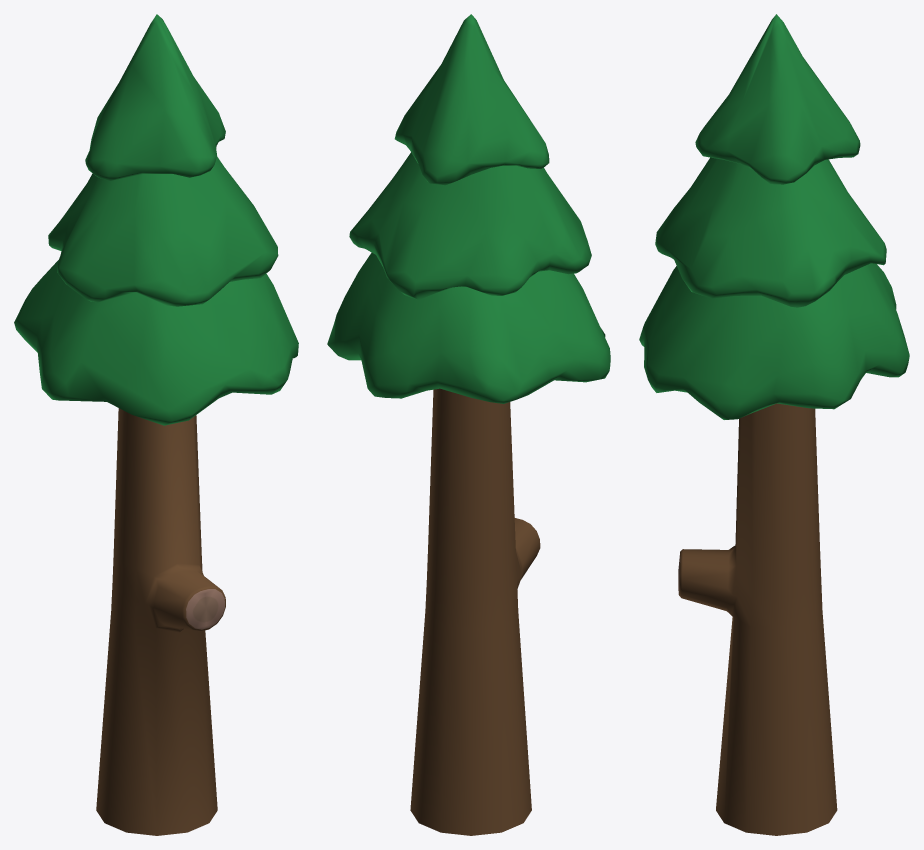
The model's file is tall-tree.fbx.
3 renders of one model, left to right at view 1: azimuth 30°, elevation 25°; view 2: azimuth 150°, elevation 25°; view 3: azimuth 270°, elevation 25°, orthographic.
Visible parts, largest first — view 1: t-log, t-leaves-3, t-leaves-2, t-leaves-1; view 2: t-log, t-leaves-3, t-leaves-2, t-leaves-1; view 3: t-log, t-leaves-3, t-leaves-2, t-leaves-1.
Boxes of the visible parts, left/top/right/bottom form: t-log: left=96, top=408, right=225, bottom=835; t-leaves-3: left=14, top=260, right=298, bottom=425; t-leaves-2: left=48, top=156, right=278, bottom=306; t-leaves-1: left=85, top=14, right=225, bottom=180; t-log: left=410, top=388, right=540, bottom=835; t-leaves-3: left=327, top=252, right=610, bottom=403; t-leaves-2: left=349, top=152, right=591, bottom=299; t-leaves-1: left=394, top=14, right=549, bottom=185; t-log: left=678, top=403, right=837, bottom=835; t-leaves-3: left=639, top=263, right=909, bottom=419; t-leaves-2: left=655, top=157, right=886, bottom=307; t-leaves-1: left=695, top=14, right=860, bottom=184.
Bounding box in the file's own units: 2.56 × 8.13 × 2.5.
